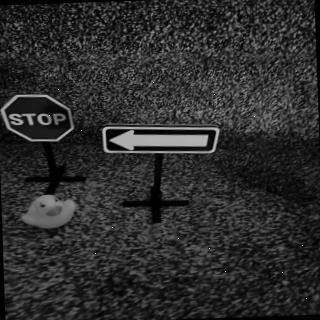duck_regular: (22, 196, 79, 233)
sign_oneway_left: (103, 121, 222, 159)
sign_stop: (1, 95, 76, 147)
